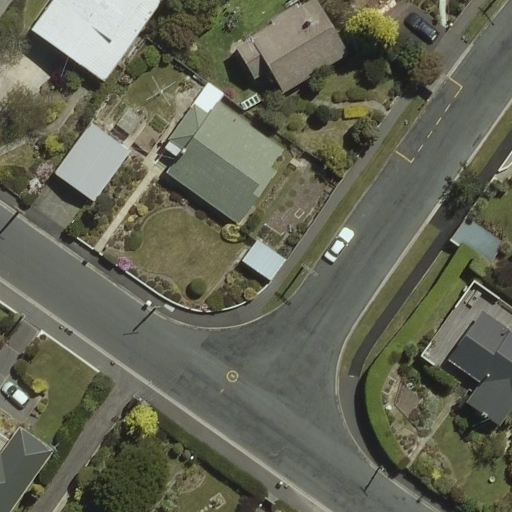DT: (291, 258, 326, 288)
